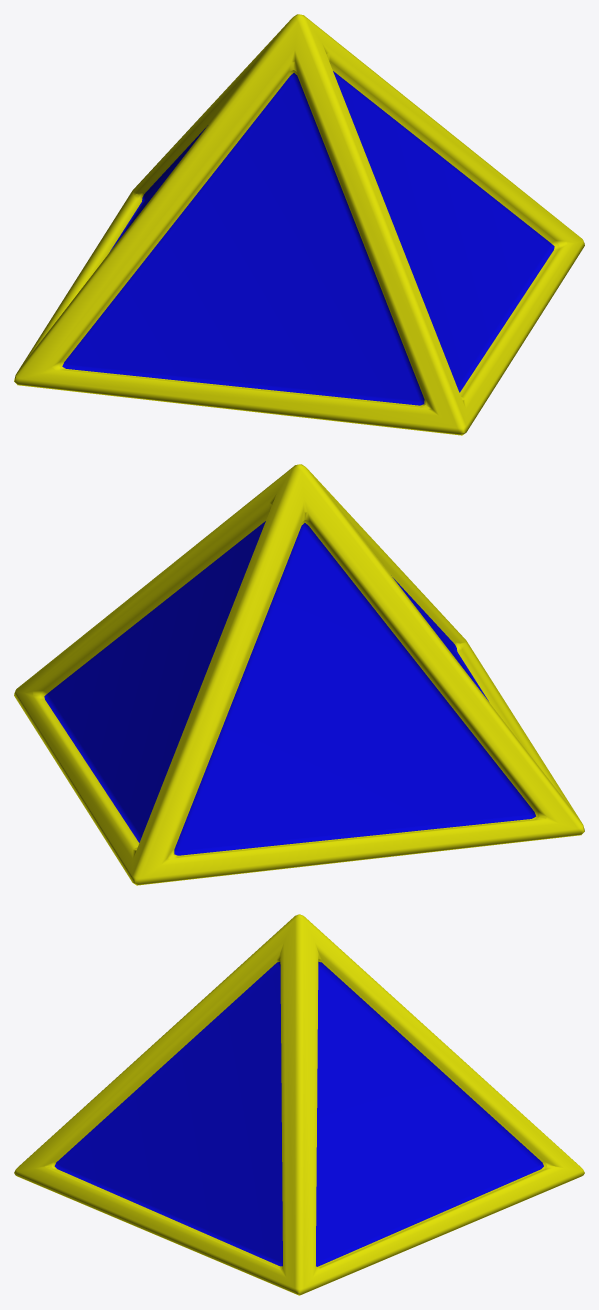
The model's file is Final_Artifact.fbx.
3 renders of one model, top to bottom at view 1: azimuth 30°, elevation 25°; view 2: azimuth 150°, elevation 25°; view 3: azimuth 270°, elevation 25°, orthographic. The views are drawn at different scales.
Visible parts, largest first — view 1: Final_Artifact; view 2: Final_Artifact; view 3: Final_Artifact.
Part boxes in pixels (x1,y1,x2,y2): Final_Artifact: (14,14,584,435); Final_Artifact: (14,464,584,885); Final_Artifact: (14,914,584,1295).
Bounding box in the file's own units: 95.39 × 48.32 × 95.41.
